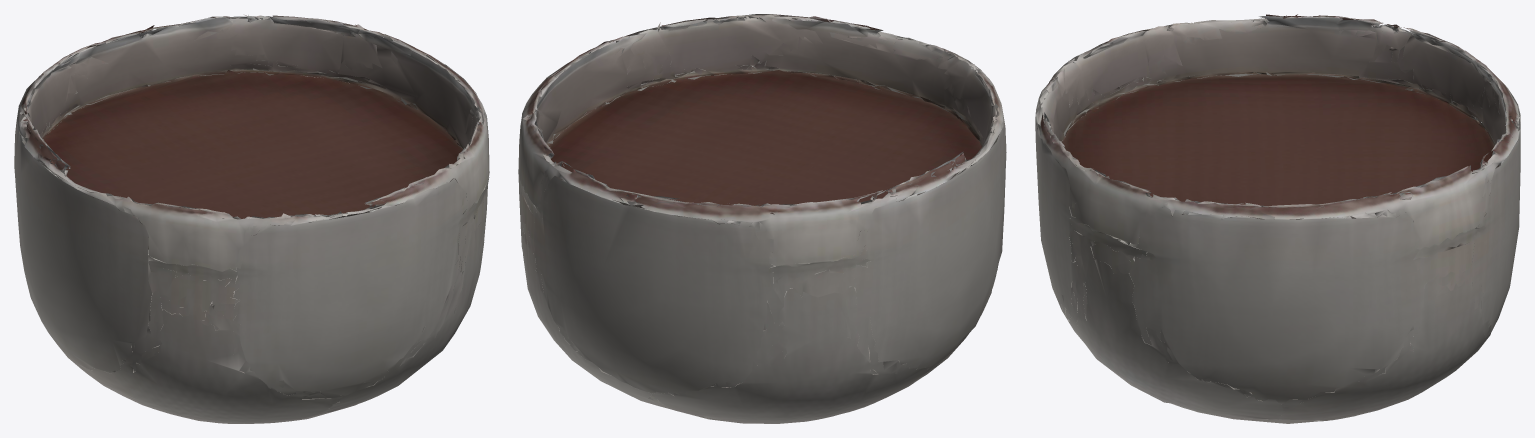
Rendered from cremeCaffe.glb.
3 views of the same model, side by side, from view 1: azimuth 30°, elevation 25°; view 2: azimuth 150°, elevation 25°; view 3: azimuth 270°, elevation 25° (orthographic).
Visible parts, largest first — view 1: high_poly.032; view 2: high_poly.032; view 3: high_poly.032.
Part boxes in pixels (x1,y1,x2,y2): high_poly.032: [14, 15, 489, 423]; high_poly.032: [518, 14, 1006, 423]; high_poly.032: [1035, 14, 1520, 423].
Size of the model in its own units: 0.9817 by 0.6231 by 0.9998.
Materials: 1 (1 with a texture image).
